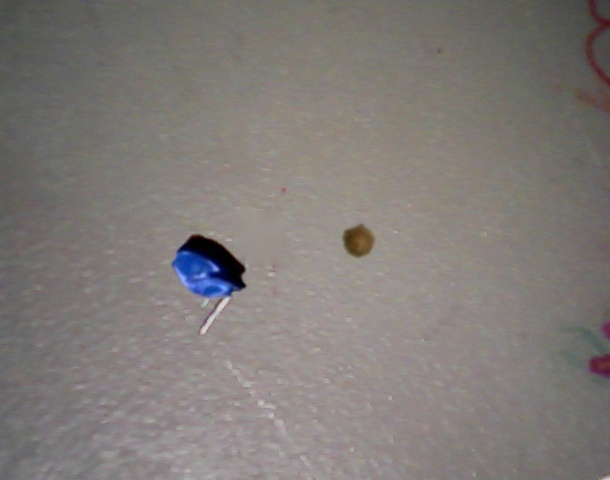capacitor: (172, 234, 246, 299), (342, 223, 376, 259)
